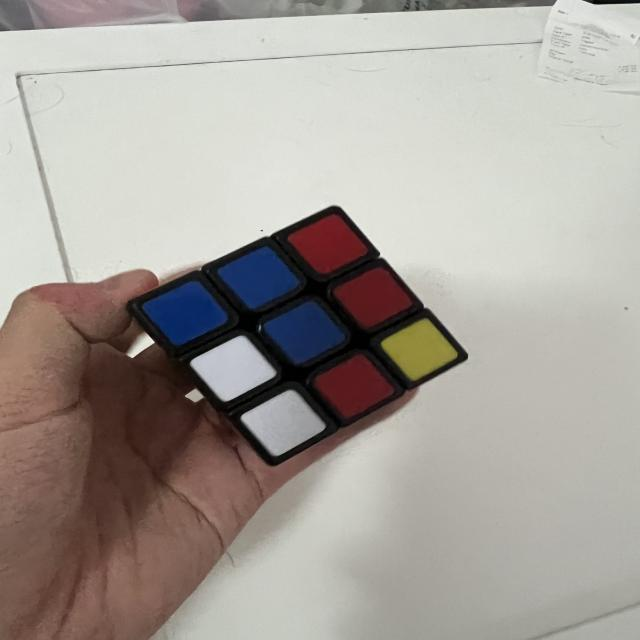blue: (142, 272, 230, 354), (214, 238, 301, 317)
center: (261, 291, 349, 373)
red: (310, 342, 398, 431), (286, 206, 370, 283), (330, 259, 414, 336)
white: (187, 326, 280, 411), (237, 381, 329, 464)
yellow: (378, 310, 461, 389)
